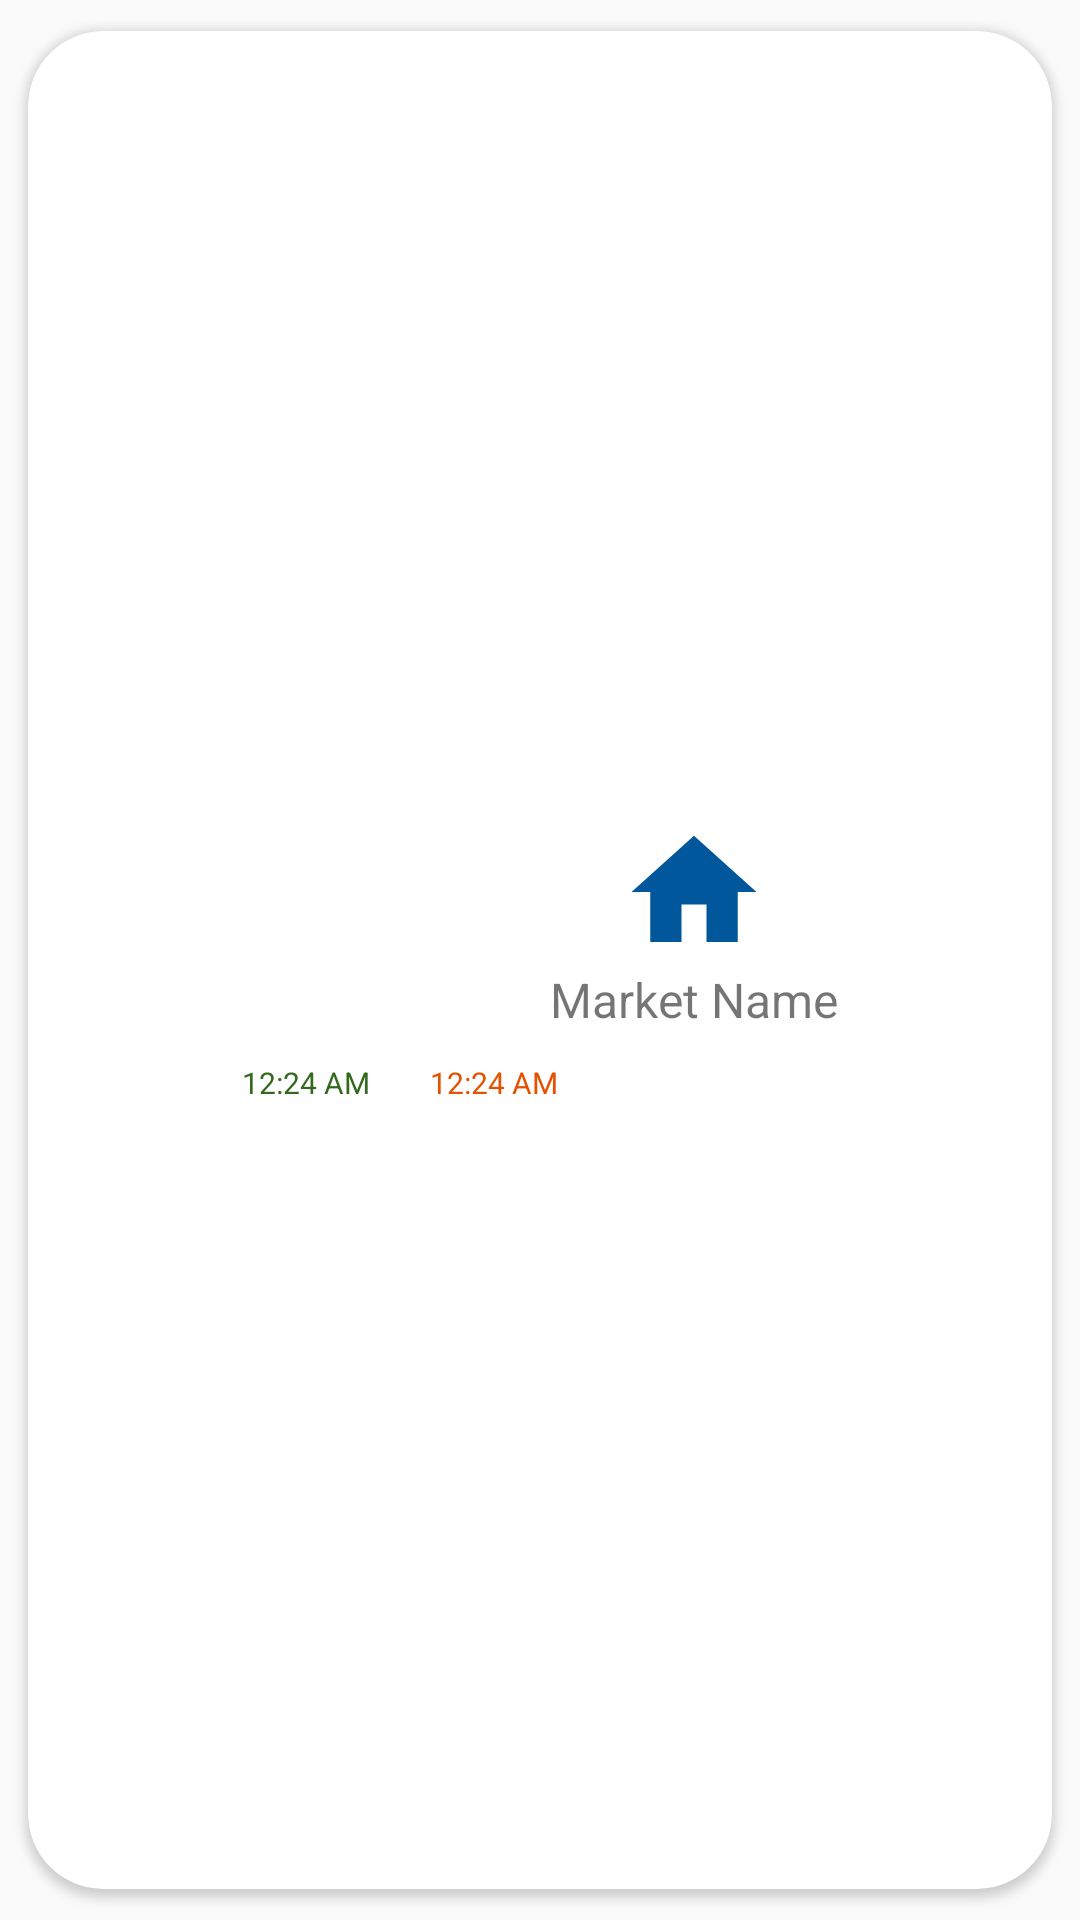

Icons on this 1080w x 1920h Android screen, each with its box as (x1, y1, x2, y2):
home: (632, 836, 756, 942)
